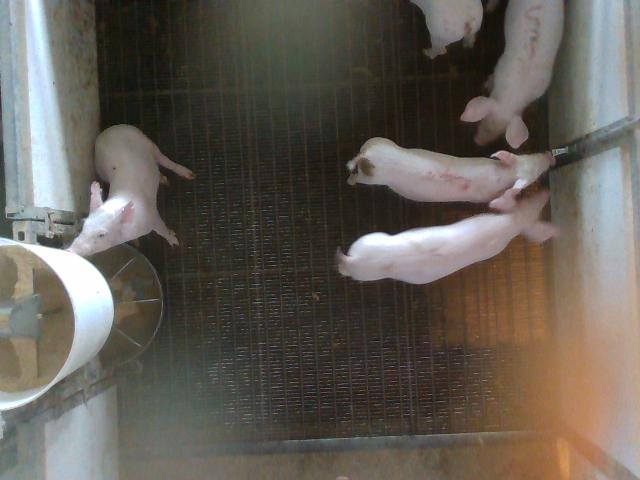pig-3: (461, 0, 562, 148)
pig-5: (348, 138, 555, 211)
